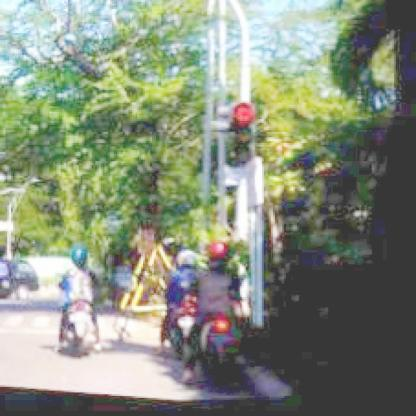Traffic Light -Red-: (229, 103, 266, 168)
